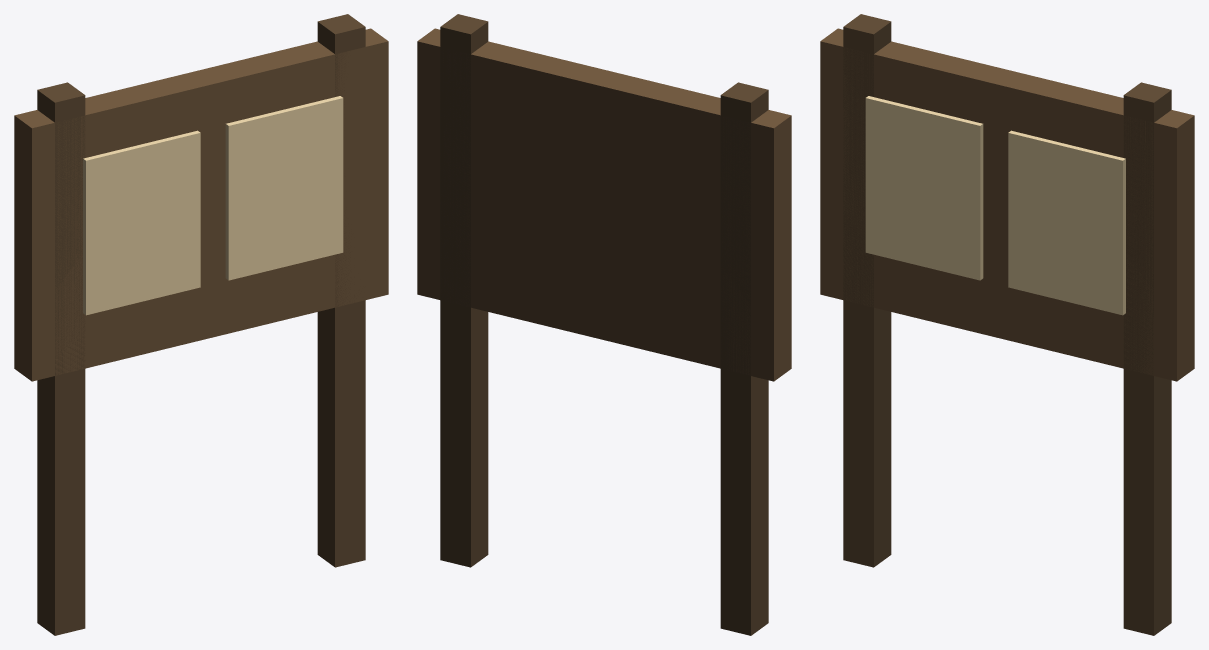
3 renders of one model, left to right at view 1: azimuth 30°, elevation 25°; view 2: azimuth 150°, elevation 25°; view 3: azimuth 330°, elevation 25°, orthographic.
Parts seen in each view (by area): view 1: a969c1aa6df69e38cf240f1994d102508d0a6835ac566de39c2a3b31dc8c; view 2: a969c1aa6df69e38cf240f1994d102508d0a6835ac566de39c2a3b31dc8c; view 3: a969c1aa6df69e38cf240f1994d102508d0a6835ac566de39c2a3b31dc8c.
Part boxes in pixels (x1,y1,x2,y2): a969c1aa6df69e38cf240f1994d102508d0a6835ac566de39c2a3b31dc8c: [14, 14, 388, 635]; a969c1aa6df69e38cf240f1994d102508d0a6835ac566de39c2a3b31dc8c: [417, 14, 791, 635]; a969c1aa6df69e38cf240f1994d102508d0a6835ac566de39c2a3b31dc8c: [820, 14, 1194, 635].
Bounding box in the file's own units: 1.4 × 2 × 0.15.
Materials: 2 (1 with a texture image).
